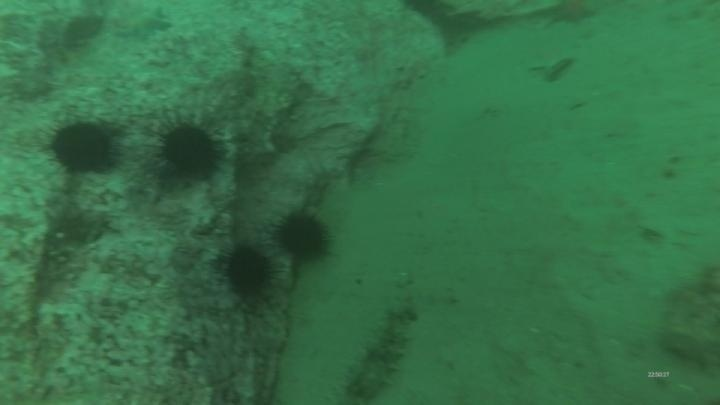echinus: (153, 117, 228, 184), (46, 117, 122, 178), (272, 206, 335, 265), (218, 241, 278, 301)
holothurian: (340, 302, 418, 402), (658, 263, 720, 371)
starfish: (113, 8, 174, 43), (543, 1, 601, 29)
